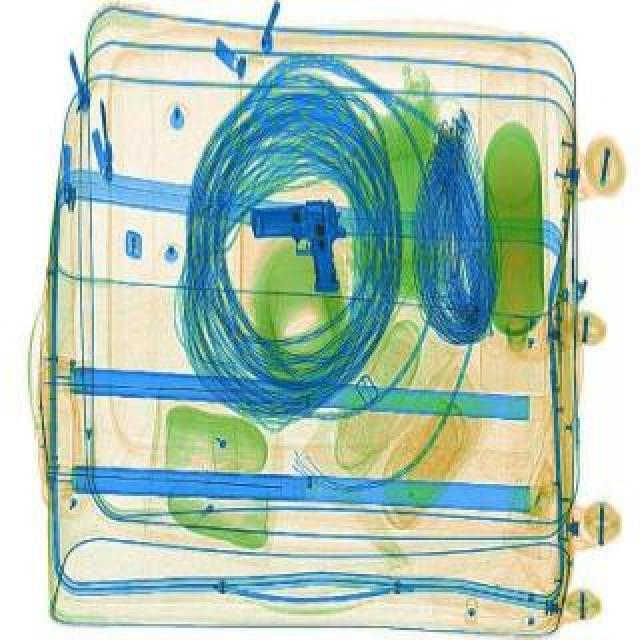gun: (244, 196, 356, 296)
